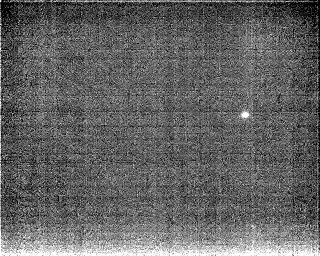AIRPLANE: (239, 110, 251, 121)
